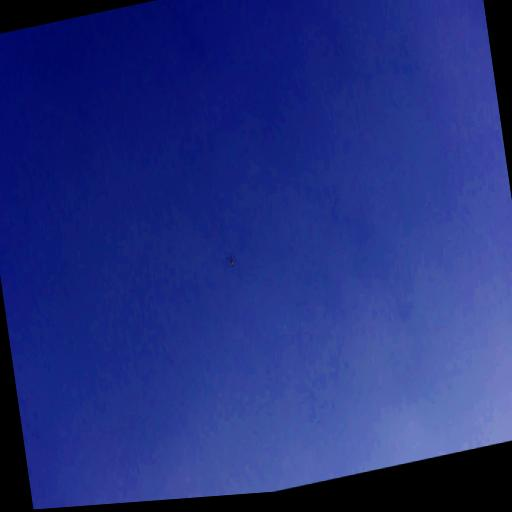drones: (227, 252, 237, 269)
